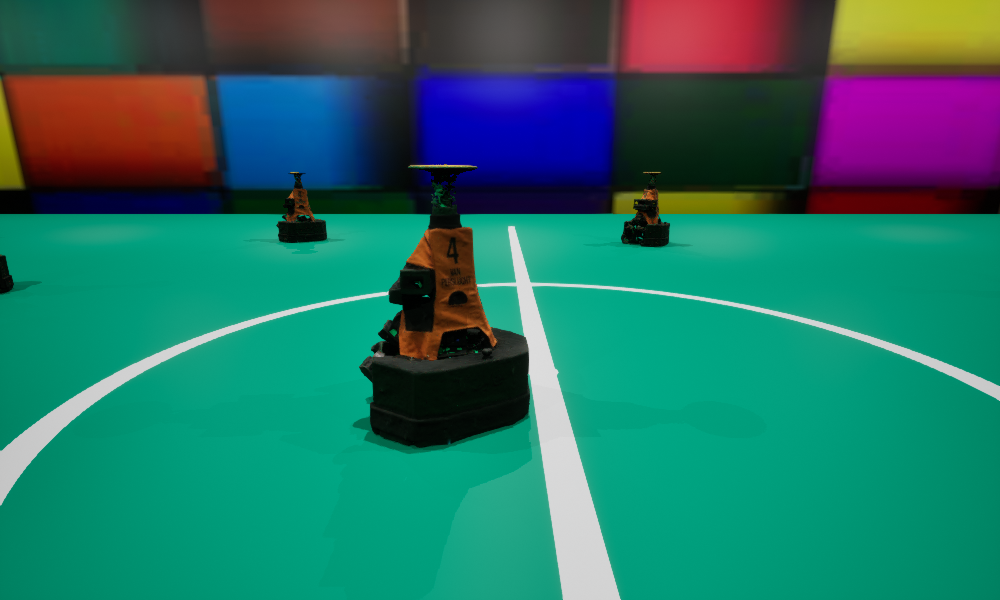o: (359, 164, 529, 446), (621, 172, 669, 245), (276, 172, 326, 241), (0, 255, 13, 291)
